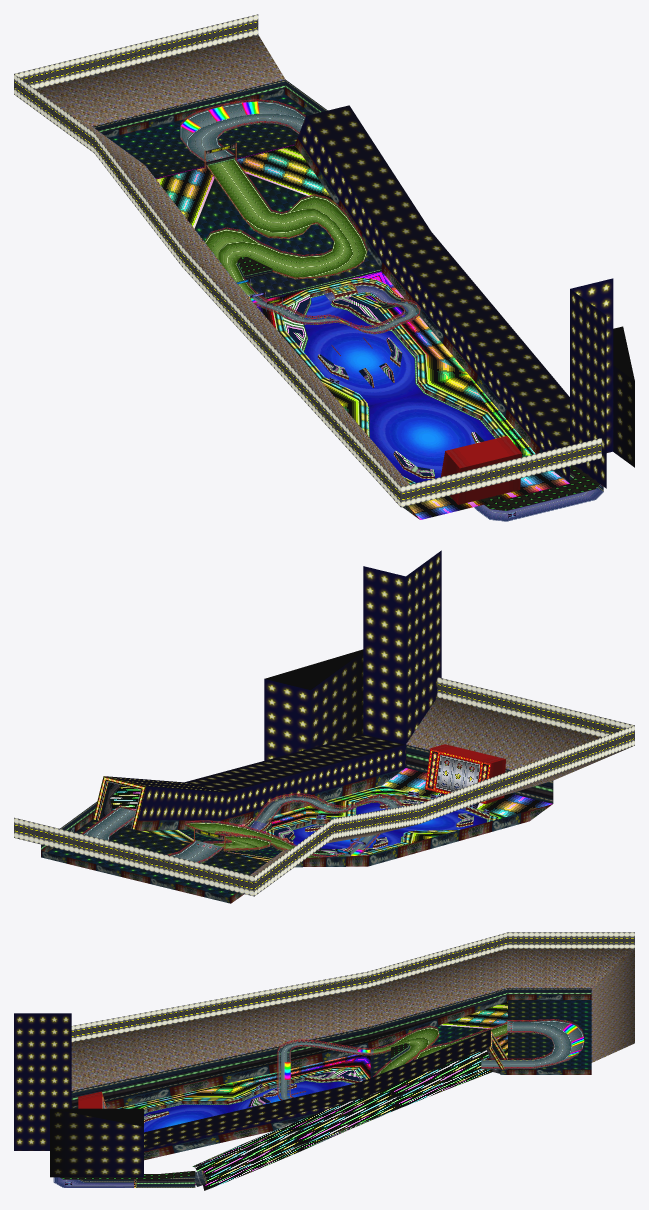
Rendered from donkey_course.glb.
The picture shows the model from 3 angles, top to bottom: view 1: azimuth 30°, elevation 25°; view 2: azimuth 150°, elevation 25°; view 3: azimuth 270°, elevation 25°; orthographic projection. The views are drawn at different scales.
Parts seen in each view (by area): view 1: donkey_course; view 2: donkey_course; view 3: donkey_course.
Boxes of the visible parts, x1=… form: donkey_course: x1=14, y1=14, x2=634, y2=521; donkey_course: x1=14, y1=550, x2=634, y2=903; donkey_course: x1=14, y1=932, x2=634, y2=1190.
Size of the model in its own units: 238 by 165 by 538.
Materials: 26 (26 with a texture image).
